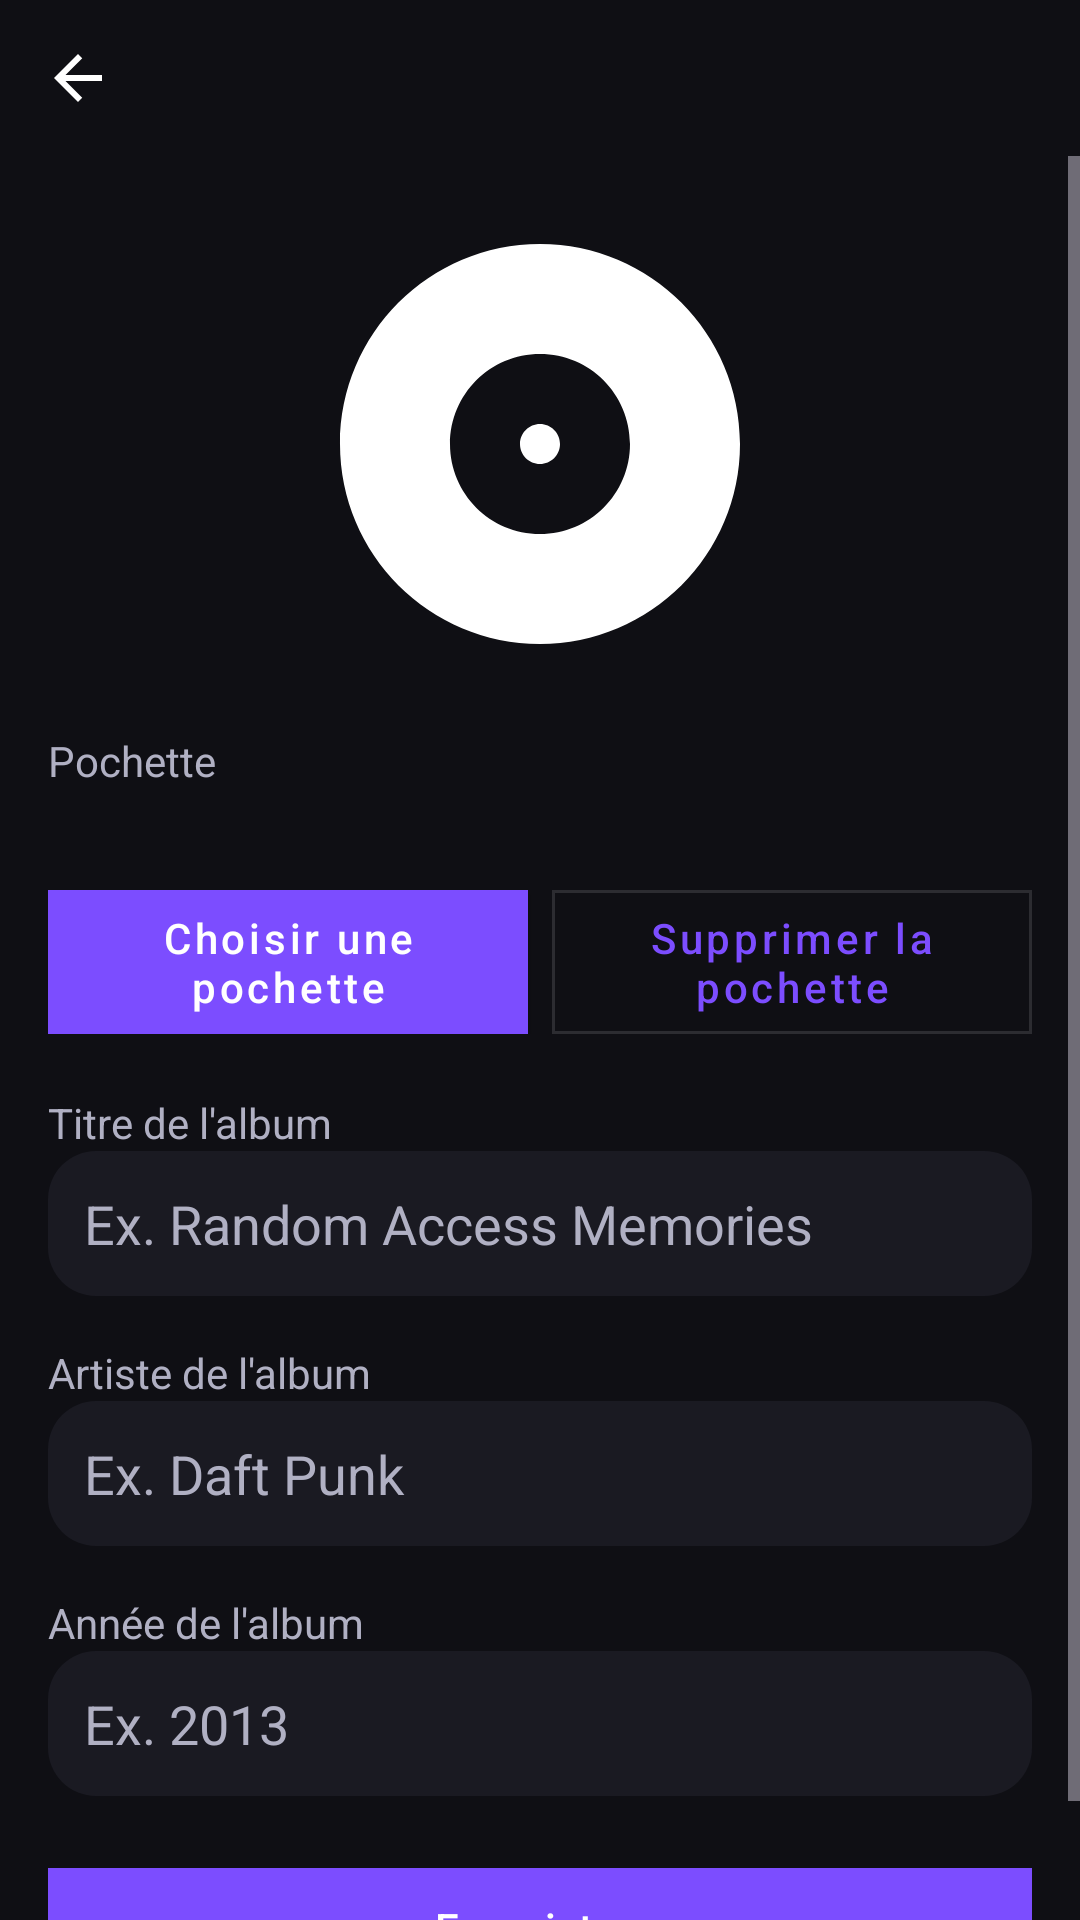

Icon bounding boxes for this 1080 × 1920 phone screenshot, format (x1, y1, x2, y2):
Retour: (54, 54, 102, 102)
